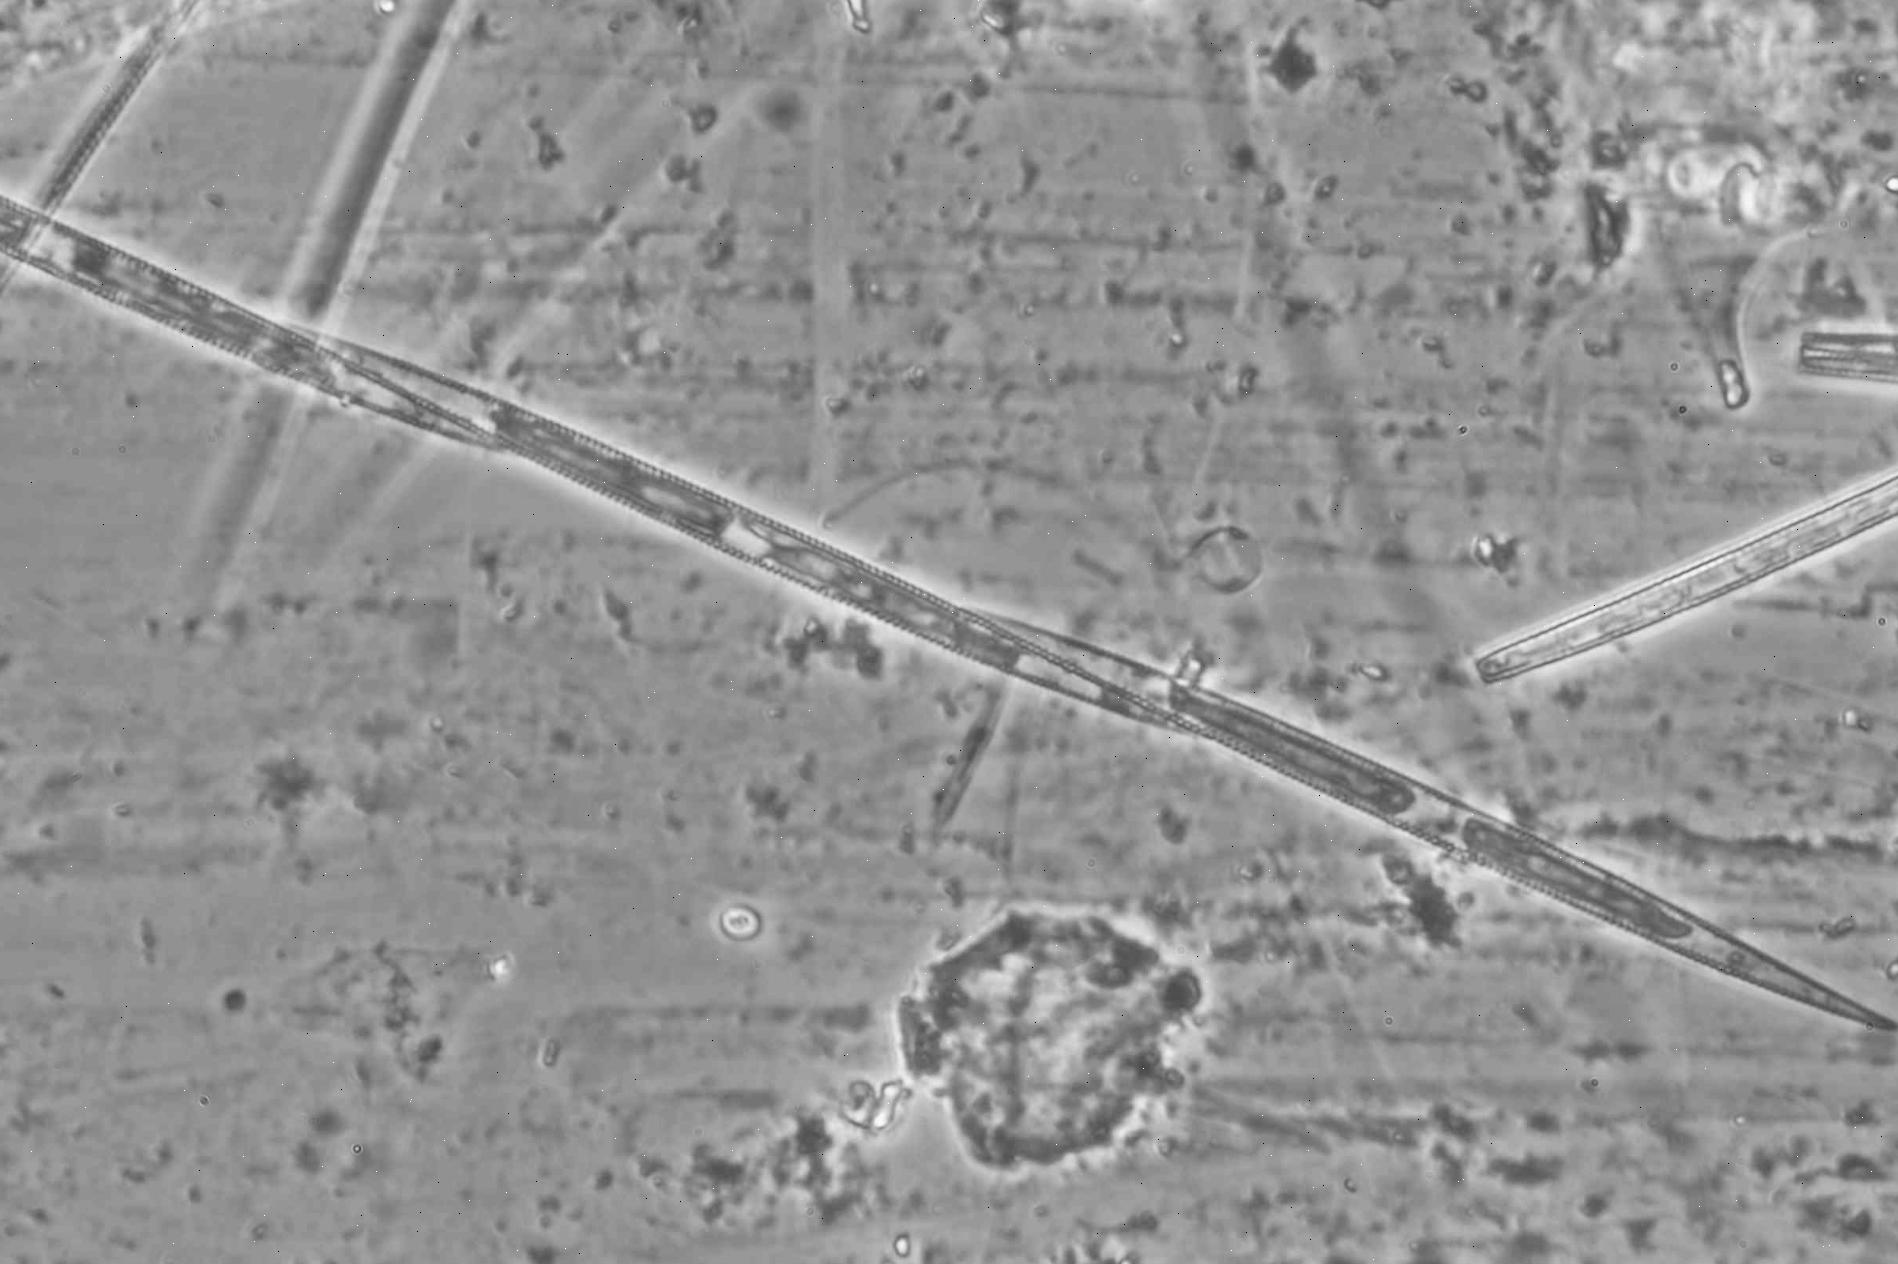pseudo_nitzschia: (0, 192, 1898, 1034)
